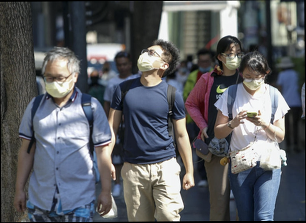mask_weared_incorrect: (198, 56, 212, 74)
with_mask: (43, 69, 75, 98), (137, 47, 164, 74), (242, 69, 266, 92), (221, 46, 243, 70)
without_mask: (115, 58, 131, 76)
